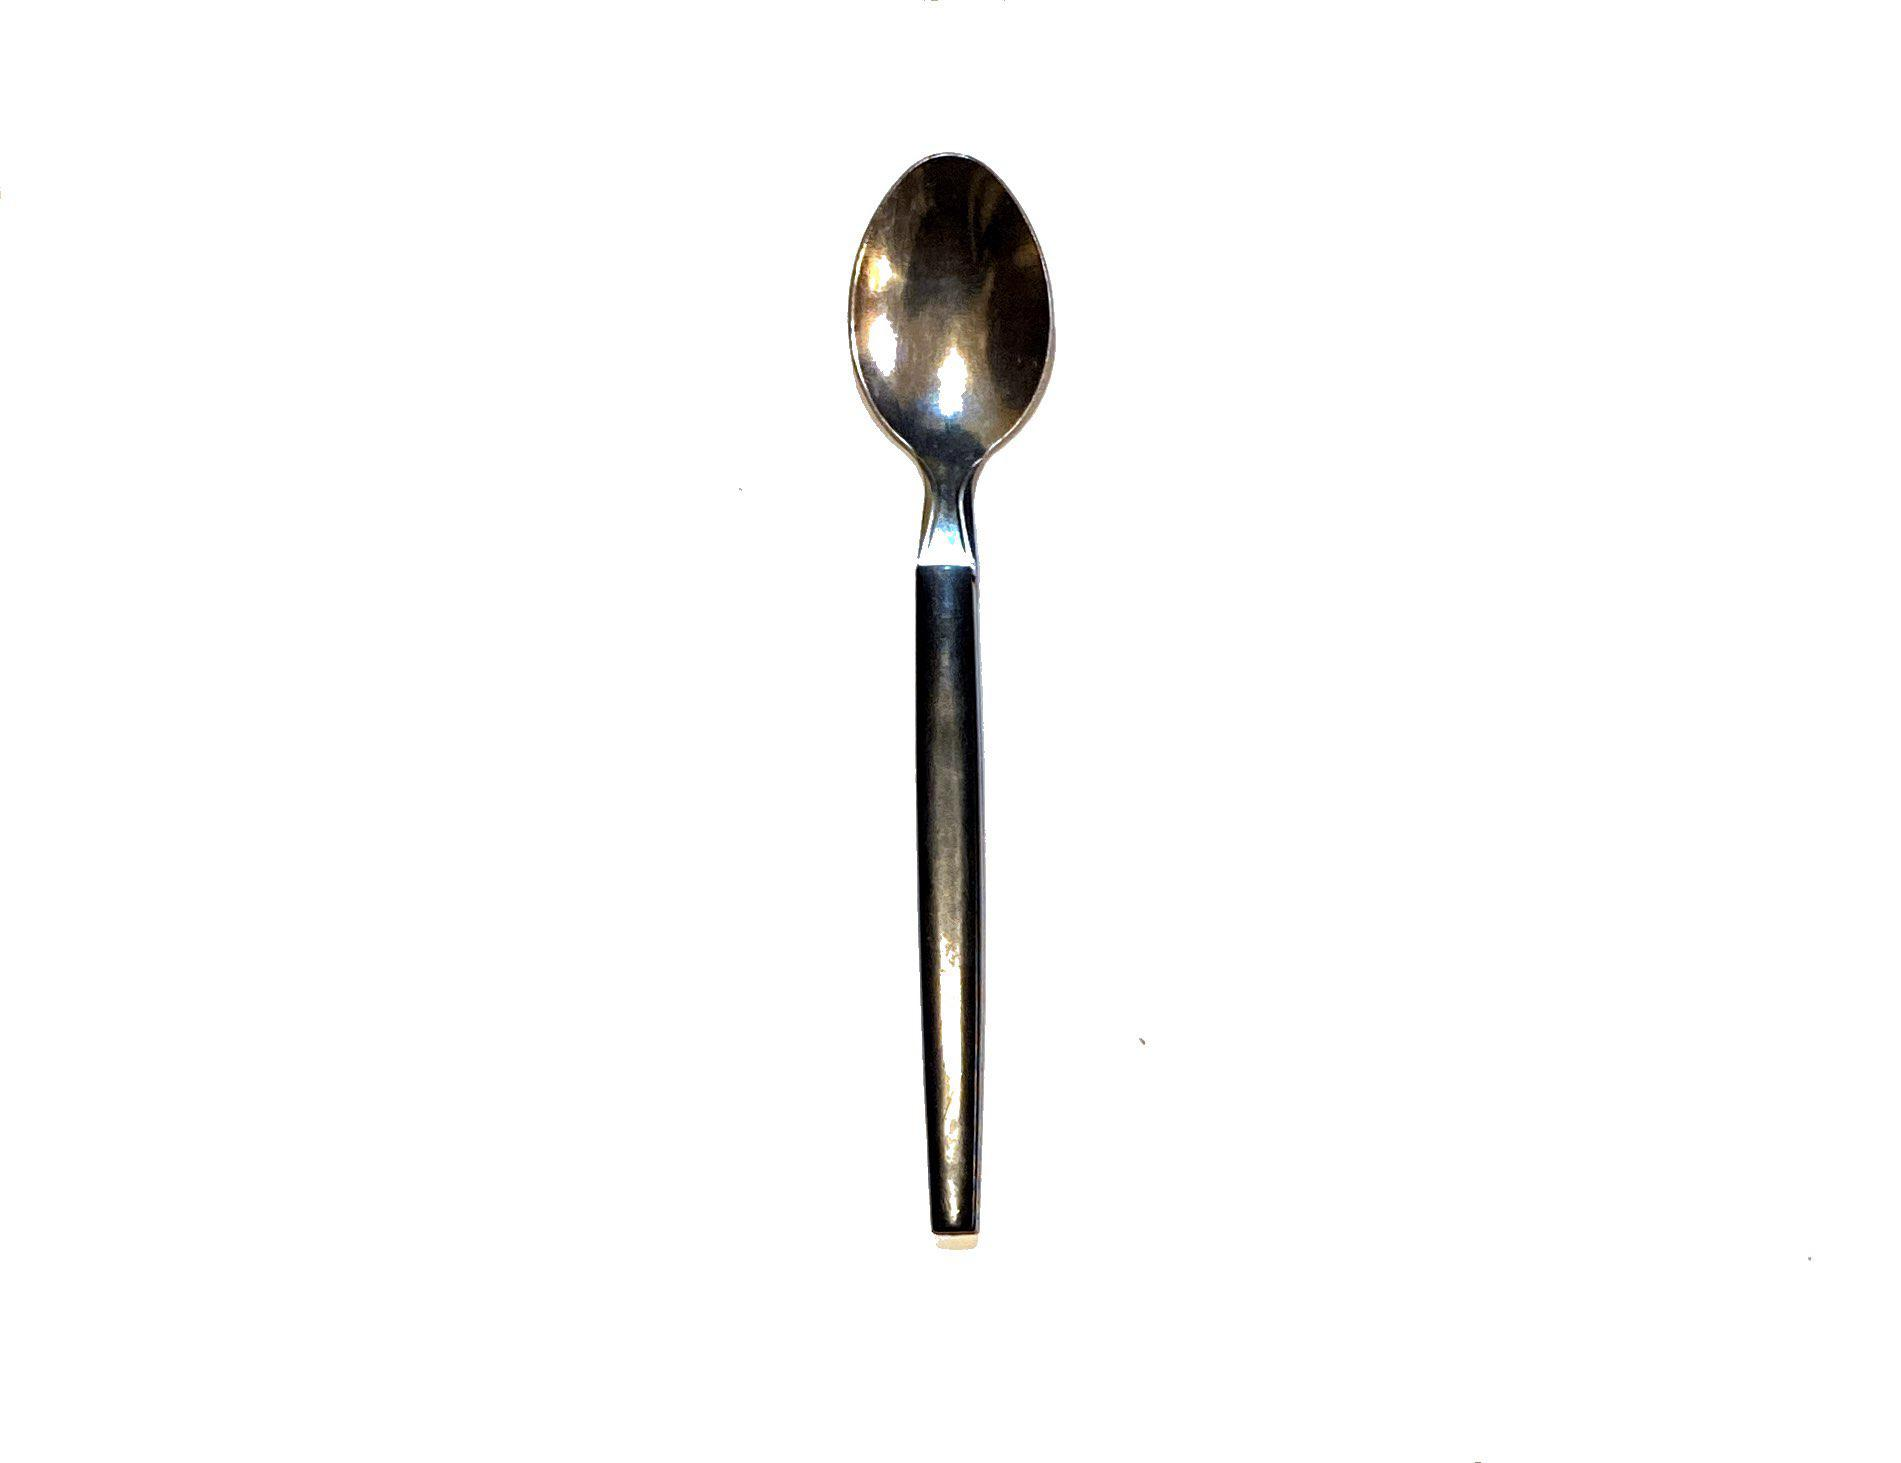Spoon: (775, 135, 1153, 1329)
